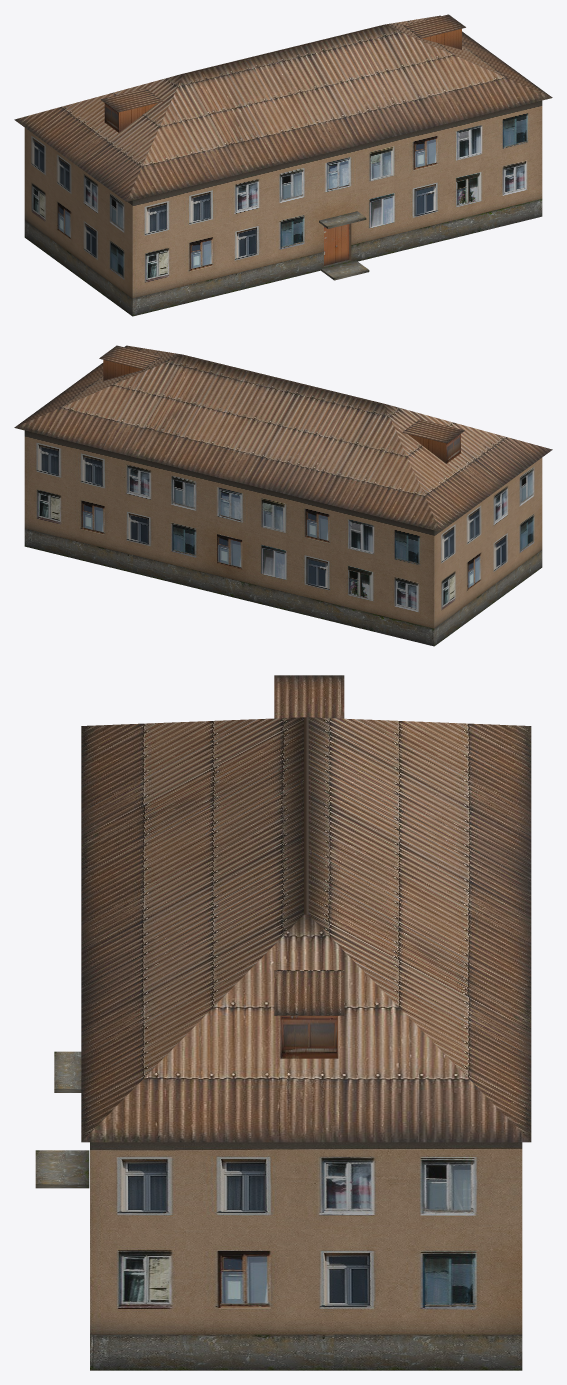
File: minihouse_5.fbx
The picture shows the model from 3 angles, top to bottom: view 1: azimuth 30°, elevation 25°; view 2: azimuth 150°, elevation 25°; view 3: azimuth 270°, elevation 25°; orthographic projection. The views are drawn at different scales.
Visible parts, largest first — view 1: a11e5518-e182-4cd2-90db-ceaeb85dd844; view 2: a11e5518-e182-4cd2-90db-ceaeb85dd844; view 3: a11e5518-e182-4cd2-90db-ceaeb85dd844.
Part boxes in pixels (bbox=[...]): a11e5518-e182-4cd2-90db-ceaeb85dd844: bbox=[14, 14, 552, 316]; a11e5518-e182-4cd2-90db-ceaeb85dd844: bbox=[14, 345, 552, 646]; a11e5518-e182-4cd2-90db-ceaeb85dd844: bbox=[35, 675, 531, 1370].
Bounding box in the file's own units: 20.56 × 8.16 × 10.34.
1 material, 1 textured.
